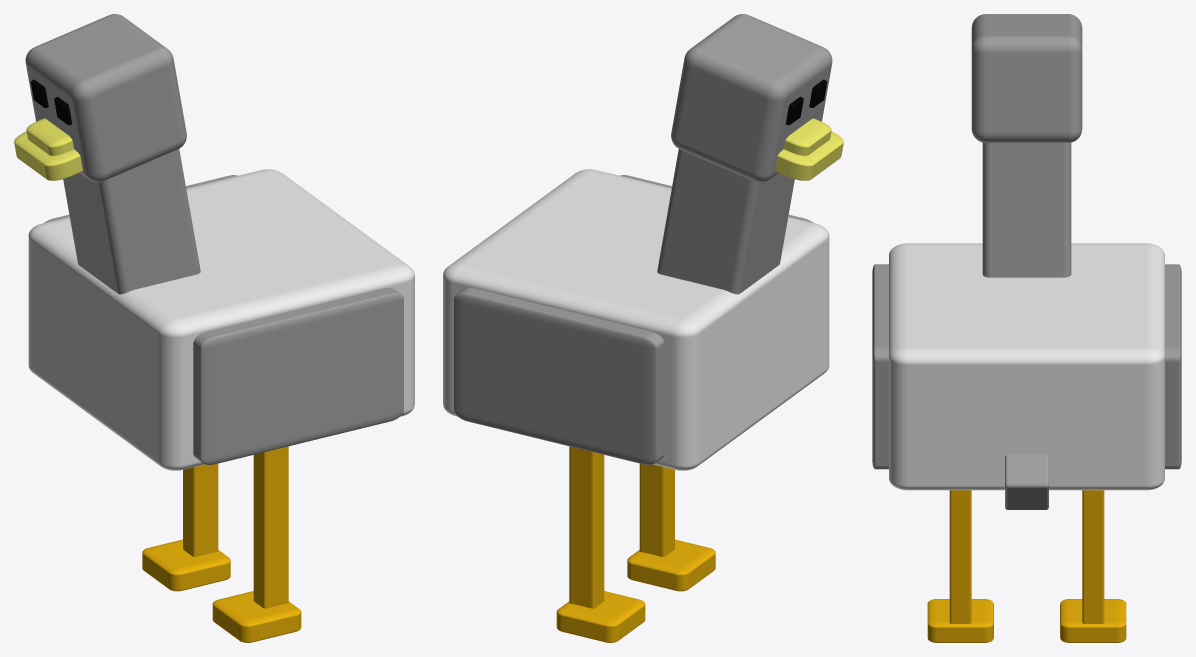
Rendered from Gagglet.glb.
3 views of the same model, side by side, from view 1: azimuth 30°, elevation 25°; view 2: azimuth 150°, elevation 25°; view 3: azimuth 270°, elevation 25° (orthographic). The views are drawn at different scales.
Parts seen in each view (by area): view 1: Cube.002, Cube.009, Cube.004, Cube.003, Cube.007, Cube.001, Cube.006, Cube, Cube.005, Cube.008; view 2: Cube.002, Cube.010, Cube.004, Cube.003, Cube.001, Cube.007, Cube, Cube.006, Cube.005, Cube.008; view 3: Cube.002, Cube.004, Cube.003, Cube.009, Cube.010, Cube.001, Cube.007, Cube.011, Cube, Cube.006.
Boxes of the visible parts, box(x1,y1,x2,y2) form: Cube.002: box(28, 169, 414, 470); Cube.009: box(193, 288, 403, 464); Cube.004: box(25, 14, 186, 182); Cube.003: box(63, 149, 200, 294); Cube.007: box(253, 446, 288, 608); Cube.001: box(183, 463, 218, 556); Cube.006: box(212, 591, 301, 642); Cube: box(142, 539, 230, 591); Cube.005: box(14, 131, 82, 180); Cube.008: box(26, 118, 73, 155); Cube.002: box(443, 169, 829, 470); Cube.010: box(454, 288, 664, 464); Cube.004: box(671, 14, 832, 182); Cube.003: box(657, 149, 794, 294); Cube.001: box(569, 446, 604, 608); Cube.007: box(639, 463, 674, 556); Cube: box(556, 591, 645, 642); Cube.006: box(627, 539, 715, 591); Cube.005: box(775, 131, 843, 180); Cube.008: box(784, 118, 831, 155); Cube.002: box(889, 243, 1164, 490); Cube.004: box(971, 14, 1082, 142); Cube.003: box(982, 142, 1071, 277); Cube.009: box(872, 264, 888, 469); Cube.010: box(1165, 264, 1181, 469); Cube.001: box(1082, 490, 1104, 623); Cube.007: box(949, 490, 971, 623); Cube.011: box(1005, 455, 1048, 509); Cube: box(1060, 599, 1126, 642); Cube.006: box(927, 599, 993, 642).
Bounding box in the file's own units: 1.71 × 2.77 × 1.4.
